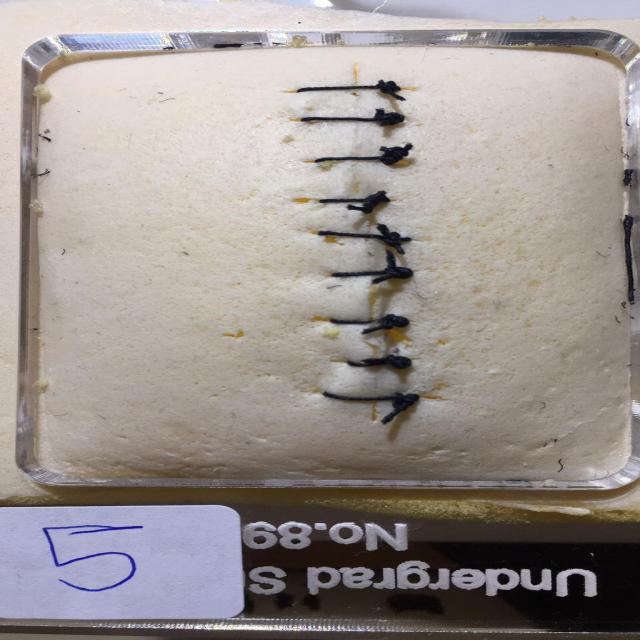knot: (364, 194, 390, 213), (381, 147, 408, 165), (394, 395, 419, 411), (381, 316, 409, 329), (385, 267, 413, 279), (375, 114, 404, 125), (382, 232, 401, 248), (376, 81, 400, 93), (388, 356, 410, 369)
leftover: (379, 395, 413, 424), (359, 320, 399, 335), (343, 198, 379, 211), (369, 270, 399, 284), (383, 248, 399, 274), (391, 142, 413, 160), (381, 86, 407, 101), (387, 236, 406, 256), (375, 222, 394, 239), (377, 146, 397, 160), (375, 107, 391, 121), (359, 358, 403, 363), (372, 189, 386, 202), (385, 354, 403, 363), (359, 117, 391, 122), (376, 78, 389, 90), (393, 392, 413, 399), (386, 313, 399, 323)
stitch: (315, 231, 413, 241), (321, 391, 421, 400), (294, 85, 403, 93), (311, 156, 405, 164), (297, 116, 404, 122), (328, 270, 414, 277), (344, 359, 411, 367), (327, 318, 410, 324), (315, 198, 393, 203)
wound: (352, 63, 378, 423)
